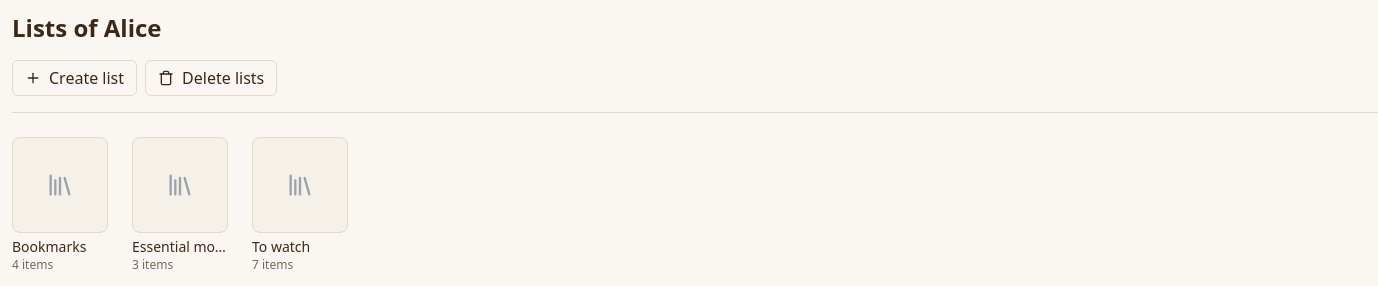
it: ListsManager › swaps the buttons for cancel and delete when selecting
Click the button with test id "start-delete-lists-button": (211, 78) [145,60,277,96]
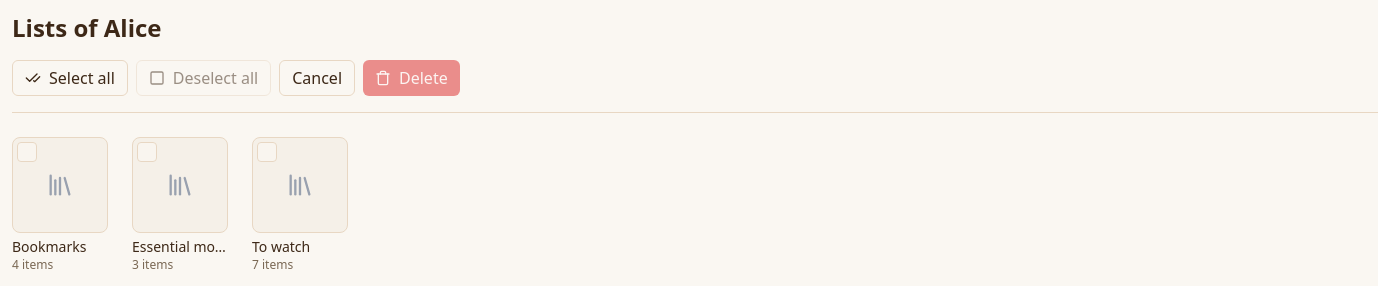
Expected: the button with test id "confirm-delete-lists-button" is shown, [363,60,460,96]
Expected: the button with test id "create-list-button" is gone
Expected: the button with test id "cancel-delete-lists-button" is shown, [279,60,355,96]
